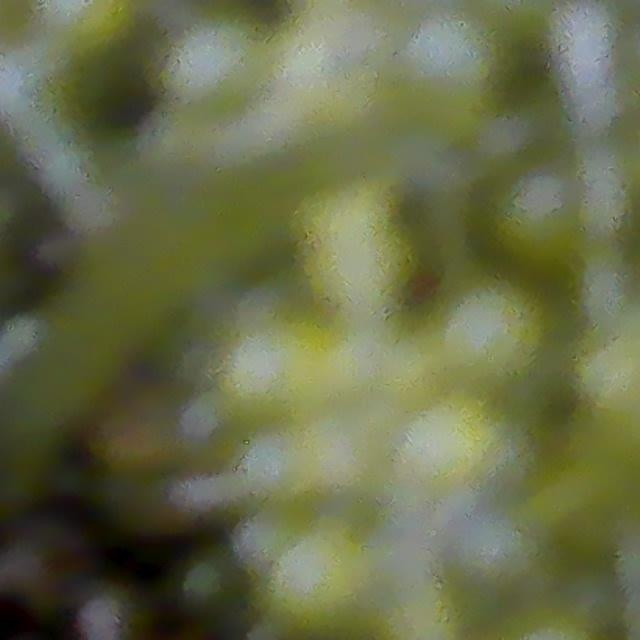SeaGrape: (433, 269, 550, 387), (257, 519, 372, 638), (169, 13, 272, 110), (493, 169, 584, 264), (403, 10, 498, 94)
